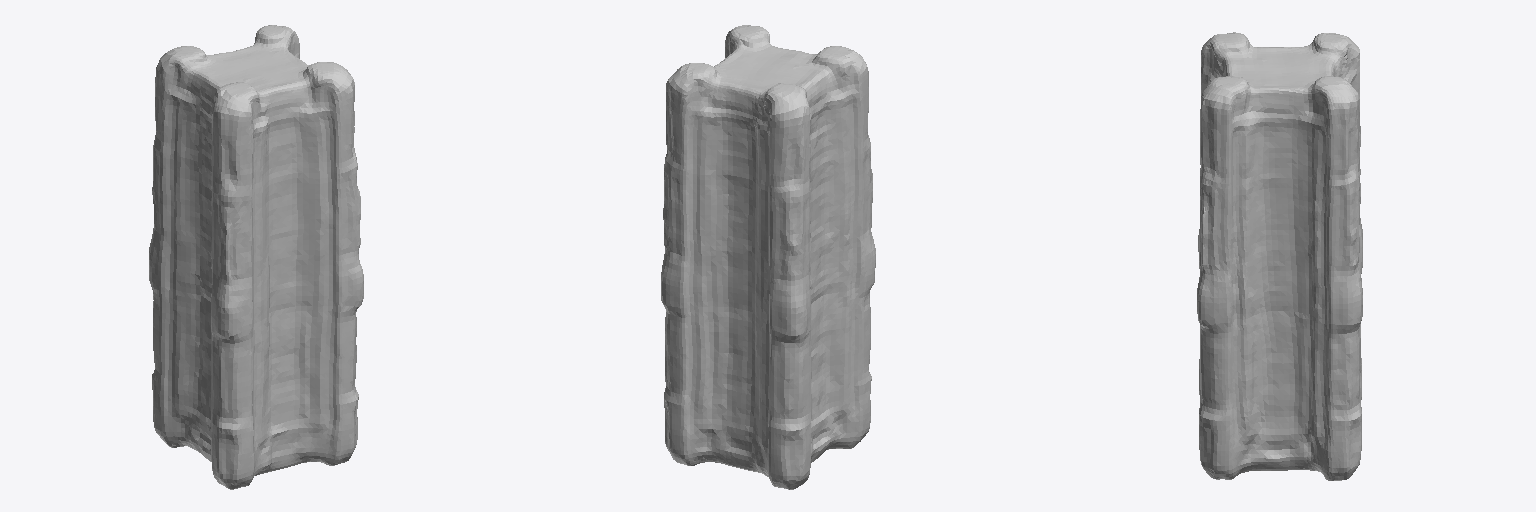
The model's file is 263e7948df84_a_large_sci_fi_wall.obj.
The picture shows the model from 3 angles: view 1: azimuth 30°, elevation 25°; view 2: azimuth 150°, elevation 25°; view 3: azimuth 270°, elevation 25°; orthographic projection.
Parts seen in each view (by area): view 1: mesh; view 2: mesh; view 3: mesh.
Part boxes in pixels (x1,y1,x2,y2): mesh: (149,25,363,489); mesh: (661,25,875,489); mesh: (1197,32,1362,480).
Size of the model in its own units: 0.3855 by 0.9995 by 0.3841.